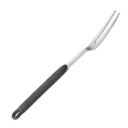Fork: (5, 11, 128, 120)
